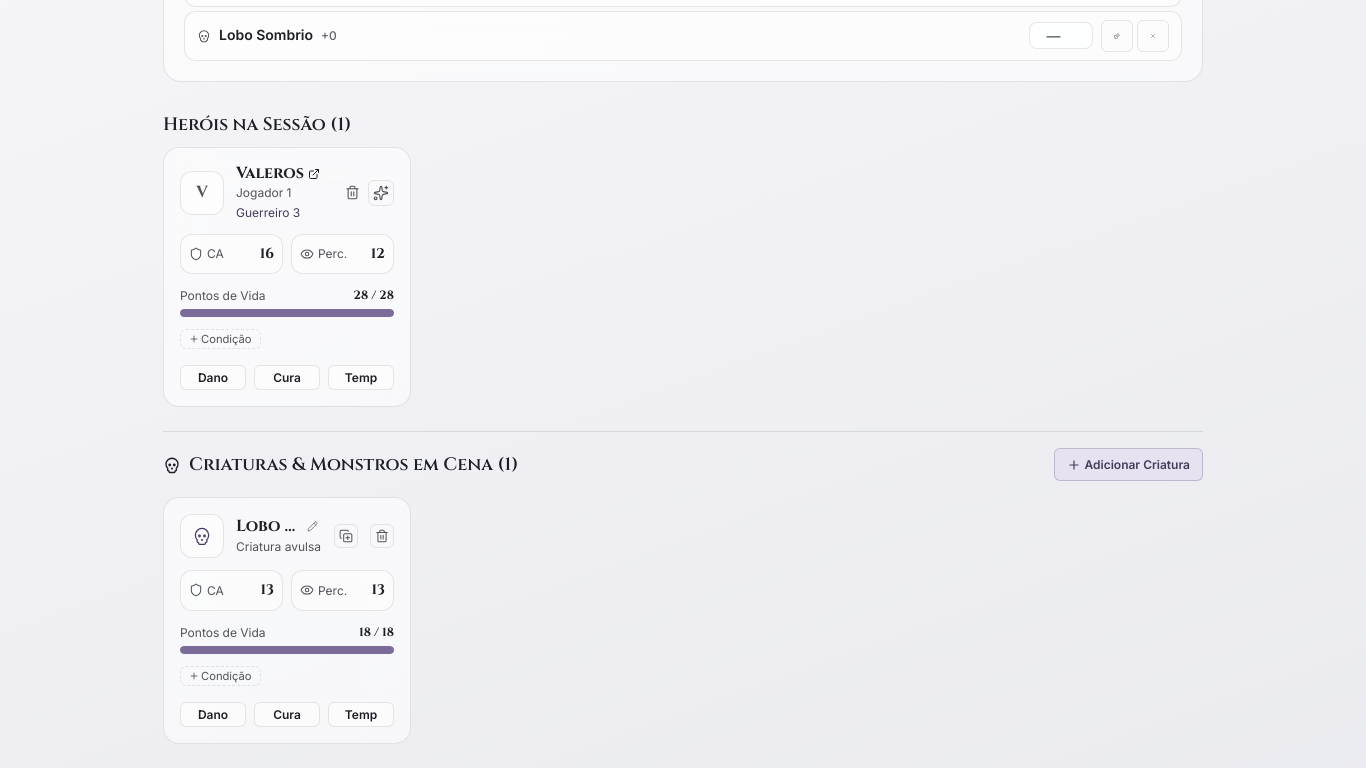
Scenario: CampaignDetailPage — Fase 2: Painel da Sessão › abre o modal de adicionar criatura ao clicar no botão
(page scrolled)
Click the button "Adicionar Criatura": (1128, 465) [1054,448,1203,481]
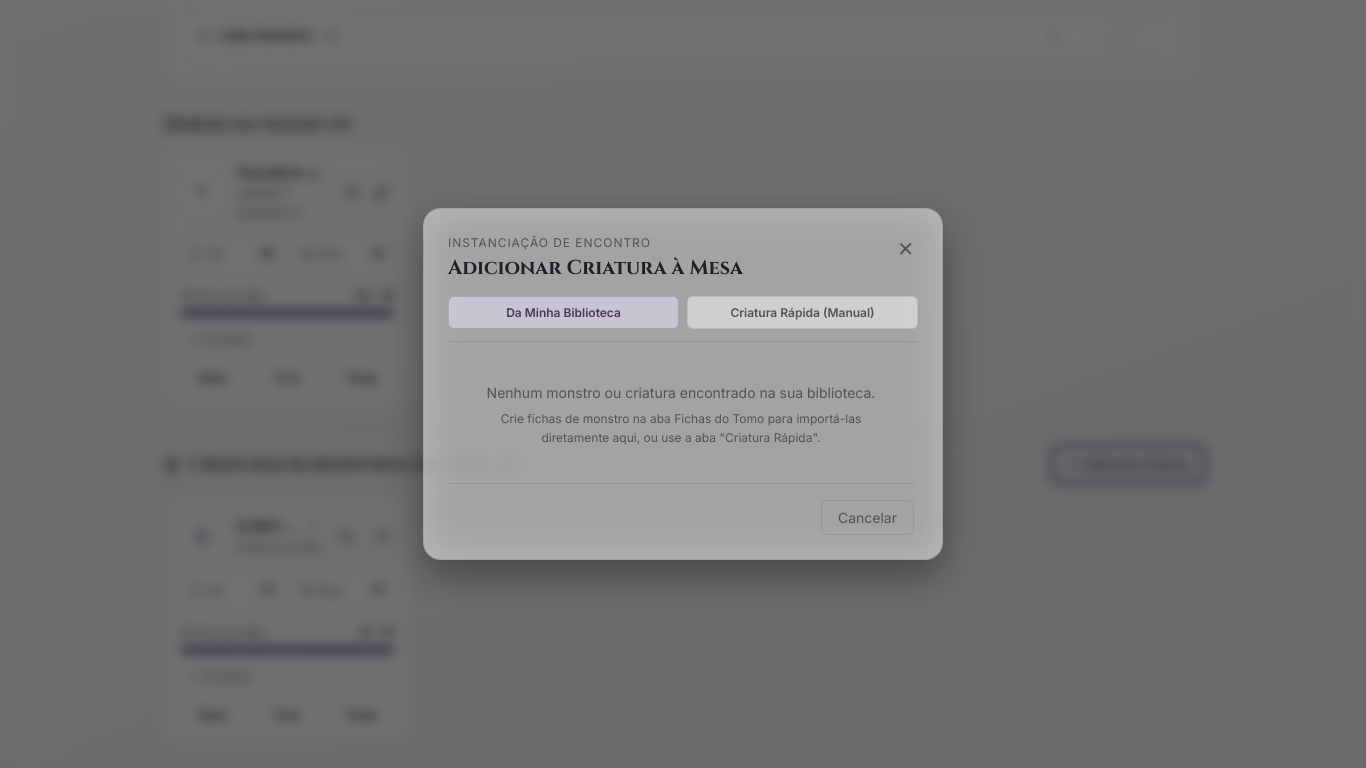
Now the heading "Adicionar Criatura à Mesa" is shown, box [448,256,743,280]
Press Escape
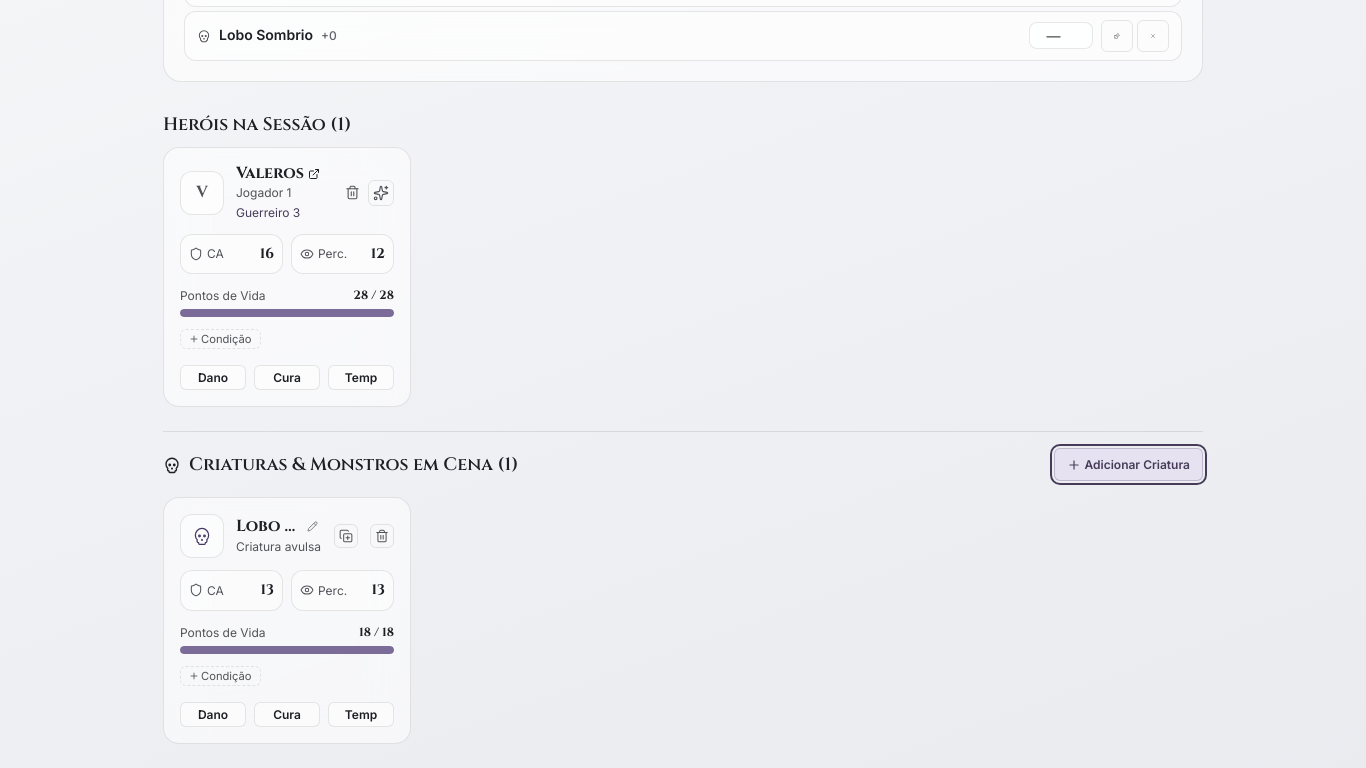
Now the heading "Adicionar Criatura à Mesa" is gone
